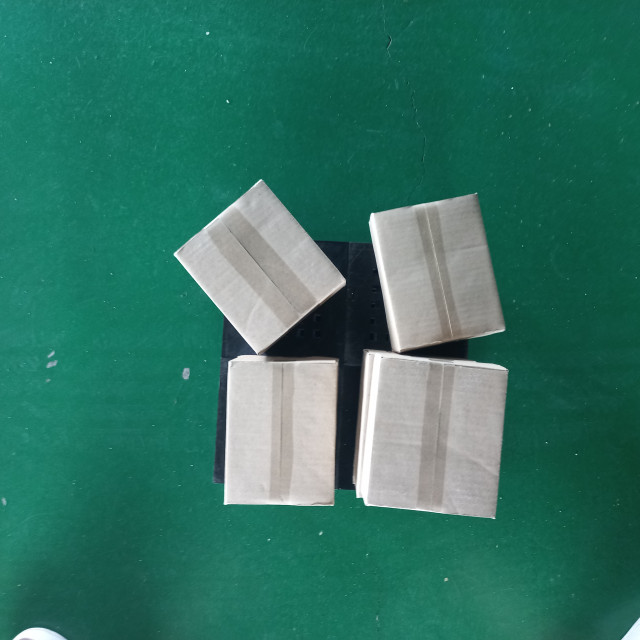box: (171, 176, 347, 357), (353, 347, 512, 523), (367, 190, 507, 354), (223, 352, 340, 509)
